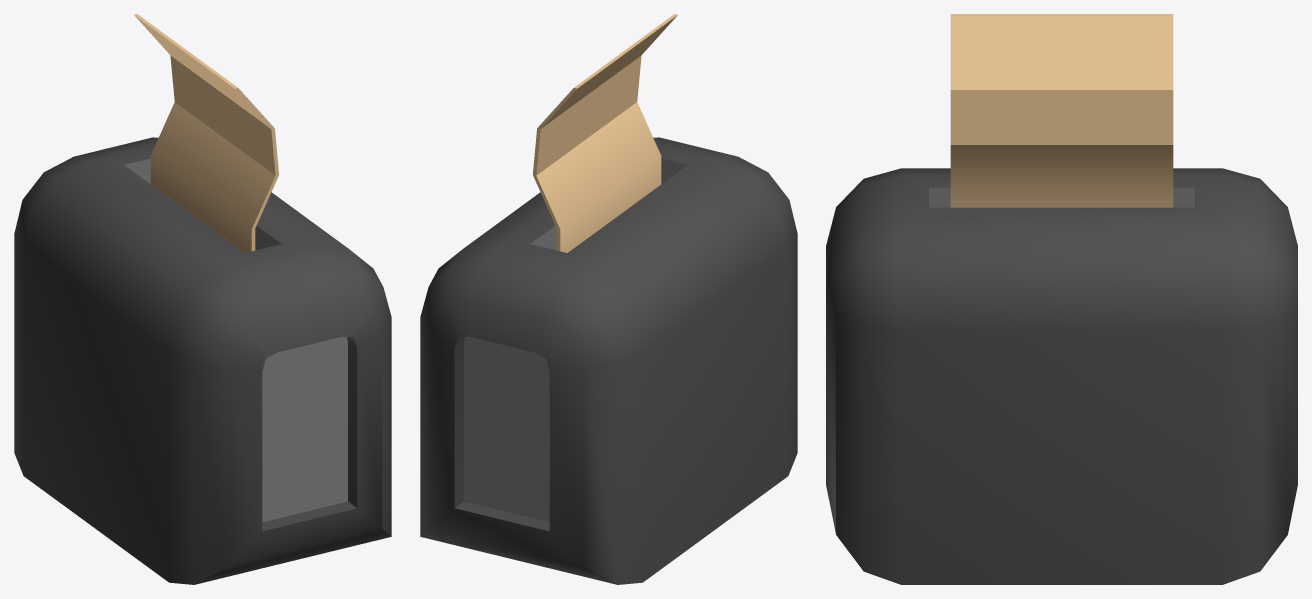
Rendered from NapkinDispenser.fbx.
3 views of the same model, side by side, from view 1: azimuth 30°, elevation 25°; view 2: azimuth 150°, elevation 25°; view 3: azimuth 270°, elevation 25° (orthographic). The views are drawn at different scales.
Parts seen in each view (by area): view 1: NapkinDispenser; view 2: NapkinDispenser; view 3: NapkinDispenser.
Part boxes in pixels (left/top/right/bottom): NapkinDispenser: left=14, top=14, right=391, bottom=584; NapkinDispenser: left=420, top=14, right=797, bottom=584; NapkinDispenser: left=826, top=14, right=1297, bottom=584.
Bounding box in the file's own units: 14.25 × 29.15 × 24.76.
